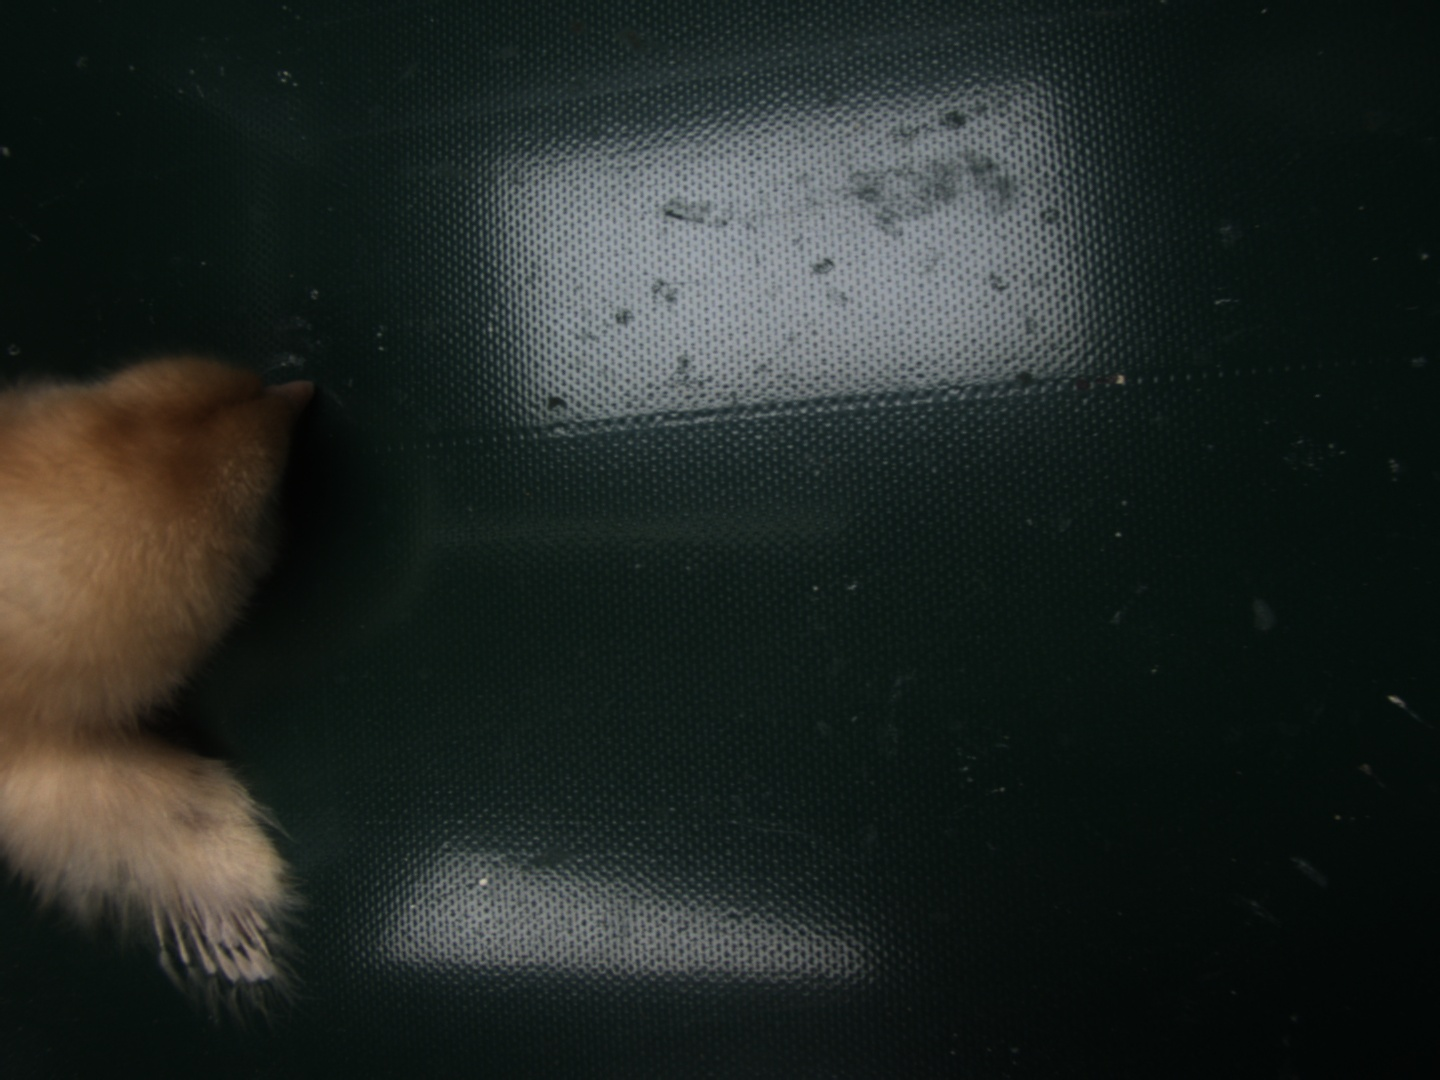female: (141, 898, 279, 984)
